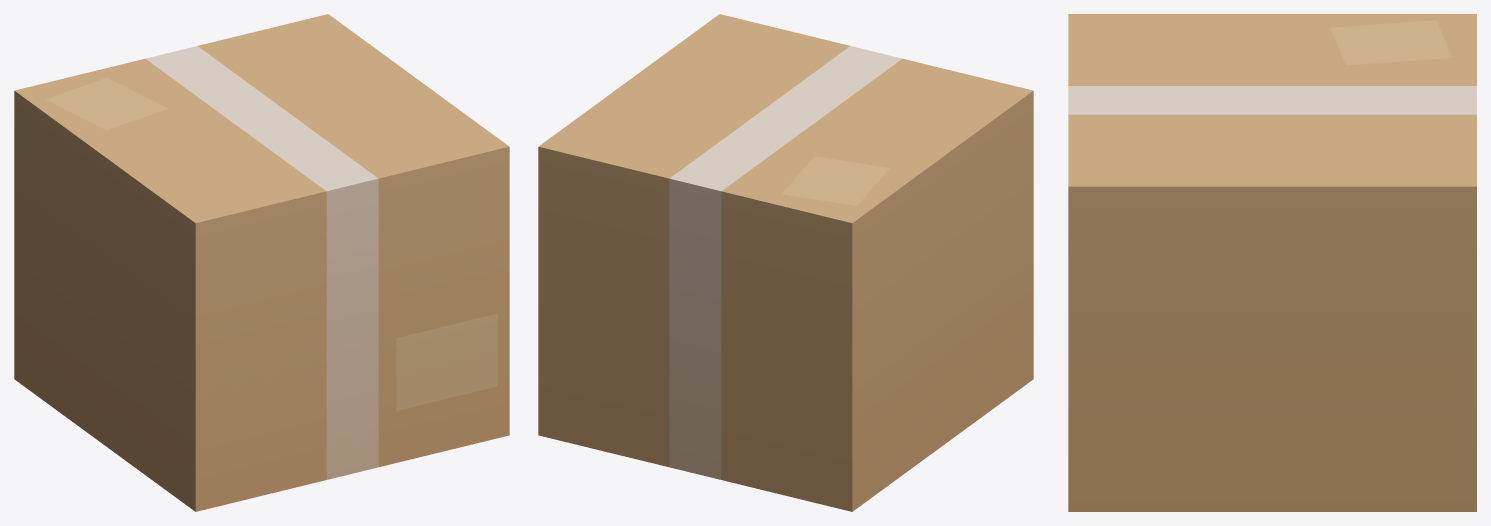
3 views of the same model, side by side, from view 1: azimuth 30°, elevation 25°; view 2: azimuth 150°, elevation 25°; view 3: azimuth 270°, elevation 25° (orthographic). The views are drawn at different scales.
Parts seen in each view (by area): view 1: box_A; view 2: box_A; view 3: box_A.
Boxes of the visible parts, bbox=[...] form: box_A: bbox=[14, 14, 509, 511]; box_A: bbox=[538, 14, 1033, 511]; box_A: bbox=[1068, 14, 1476, 511].
Bounding box in the file's own units: 0.9 × 0.7938 × 0.9138.
1 material, 1 textured.
